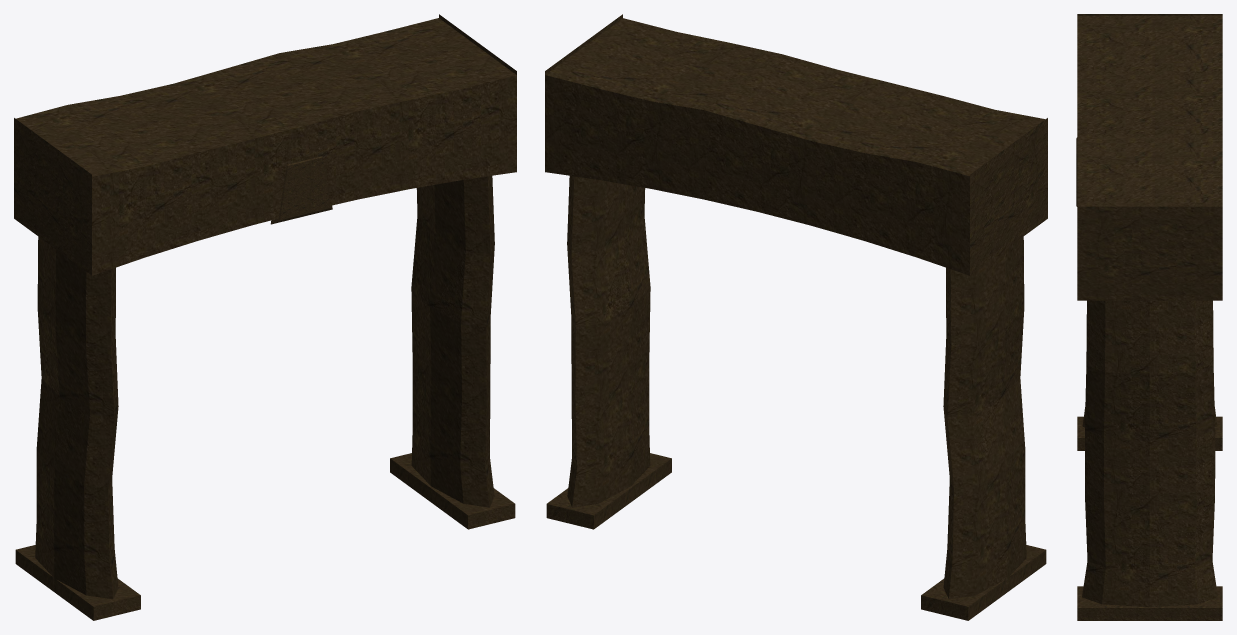
The model's file is dungeon_gate_44_dirt.glb.
3 views of the same model, side by side, from view 1: azimuth 30°, elevation 25°; view 2: azimuth 150°, elevation 25°; view 3: azimuth 270°, elevation 25° (orthographic). The views are drawn at different scales.
Parts seen in each view (by area): view 1: dungeon_gate_44_dirt; view 2: dungeon_gate_44_dirt; view 3: dungeon_gate_44_dirt.
Boxes of the visible parts, bbox=[...] form: dungeon_gate_44_dirt: bbox=[14, 14, 516, 620]; dungeon_gate_44_dirt: bbox=[545, 14, 1047, 620]; dungeon_gate_44_dirt: bbox=[1076, 14, 1222, 620].
Size of the model in its own units: 4.4 by 4.42 by 1.41.
Materials: 1 (1 with a texture image).
